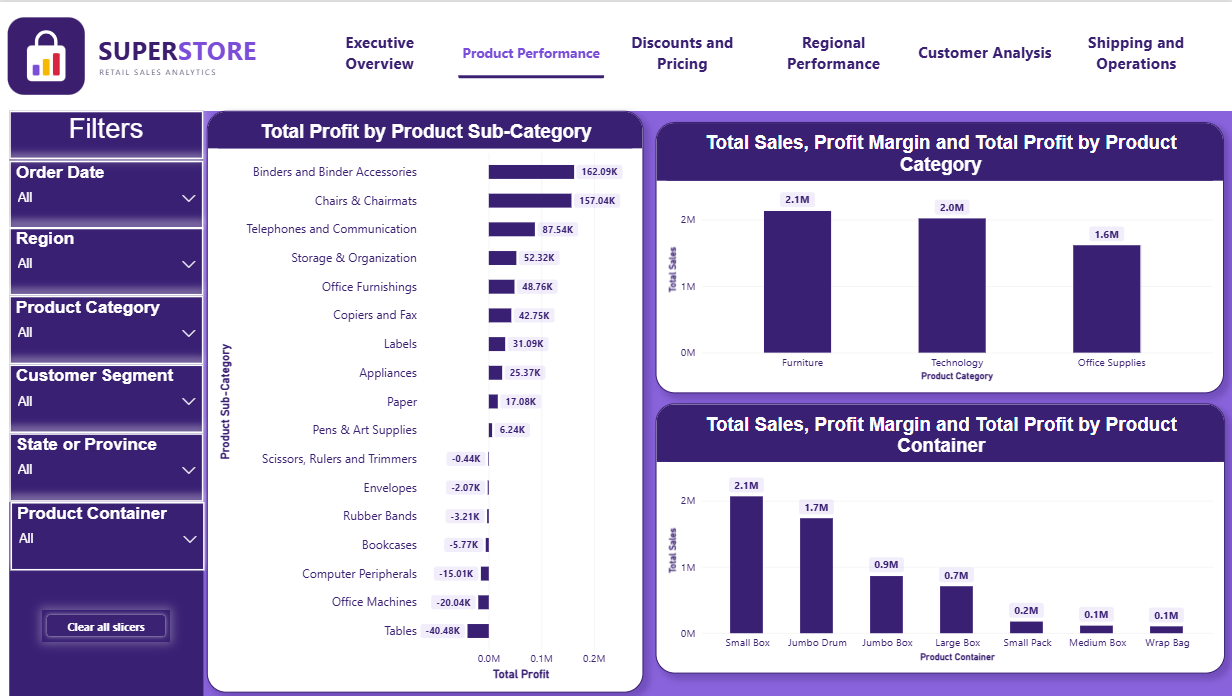

What the dashboard file says about the page in this screenshot:
{"tool":"powerbi","page":{"name":"Product Performance","canvas":[1920,1080],"ordinal":2},"visuals":[{"type":"shape","box":[0,140.9,18.8,939.1],"z":0},{"type":"shape","title":"Super Store Analysis Dashboard","box":[0,0,1919.6,169.3],"z":1000},{"type":"image","box":[0,0,479.5,168.1],"z":2000},{"type":"pageNavigator","box":[480.4,38.7,1404.3,81],"z":3000},{"type":"shape","box":[18.4,169,301.8,911],"z":4000},{"type":"textbox","box":[18.4,169.3,301.8,75.5],"z":5000},{"type":"slicer","fields":{"Values":["Final Sales Data.Order Date"]},"box":[18.4,246.6,301.8,106.7],"z":6000},{"type":"slicer","fields":{"Values":["Customers Data.Region"]},"box":[18.4,349.7,301.8,106.7],"z":7000},{"type":"slicer","fields":{"Values":["Products Data.Product Category"]},"box":[18.4,456.4,301.8,106.7],"z":8000},{"type":"slicer","fields":{"Values":["Customers Data.Customer Segment"]},"box":[18.4,563.2,301.8,106.7],"z":9000},{"type":"slicer","fields":{"Values":["Customers Data.State or Province"]},"box":[18.4,669.9,301.8,106.7],"z":10000},{"type":"slicer","fields":{"Values":["Products Data.Product Container"]},"box":[19.1,777.6,301.8,106.7],"z":11000},{"type":"clusteredColumnChart","fields":{"Category":["Products Data.Product Category"],"Y":["Measures Table.Total Sales"]},"box":[1021.5,185.9,883.4,421.5],"z":12000},{"type":"clusteredBarChart","fields":{"Category":["Products Data.Product Sub-Category"],"Y":["Measures Table.Total Profit"]},"box":[324.8,168.1,678.2,903.6],"z":13000},{"type":"clusteredColumnChart","fields":{"Category":["Products Data.Product Container"],"Y":["Measures Table.Total Sales"]},"box":[1021.5,623.9,884.5,420.3],"z":14000},{"type":"actionButton","box":[68.8,943.8,200,50],"z":15000}]}

Visuals, with their boxes in screenshot pixels (x1, y1, x2, y2), scaled from the page's 1920x1080 canvas onto the 1232x696 screenshot:
shape: [x1=0, y1=91, x2=12, y2=695]
"Super Store Analysis Dashboard" shape: [x1=0, y1=0, x2=1231, y2=109]
image: [x1=0, y1=0, x2=308, y2=108]
pageNavigator: [x1=308, y1=25, x2=1209, y2=77]
shape: [x1=12, y1=109, x2=205, y2=695]
textbox: [x1=12, y1=109, x2=205, y2=158]
slicer - Final Sales Data.Order Date: [x1=12, y1=159, x2=205, y2=228]
slicer - Customers Data.Region: [x1=12, y1=225, x2=205, y2=294]
slicer - Products Data.Product Category: [x1=12, y1=294, x2=205, y2=363]
slicer - Customers Data.Customer Segment: [x1=12, y1=363, x2=205, y2=432]
slicer - Customers Data.State or Province: [x1=12, y1=432, x2=205, y2=500]
slicer - Products Data.Product Container: [x1=12, y1=501, x2=206, y2=570]
clusteredColumnChart - Products Data.Product Category x Measures Table.Total Sales: [x1=655, y1=120, x2=1222, y2=391]
clusteredBarChart - Products Data.Product Sub-Category x Measures Table.Total Profit: [x1=208, y1=108, x2=644, y2=691]
clusteredColumnChart - Products Data.Product Container x Measures Table.Total Sales: [x1=655, y1=402, x2=1223, y2=673]
actionButton: [x1=44, y1=608, x2=172, y2=640]
